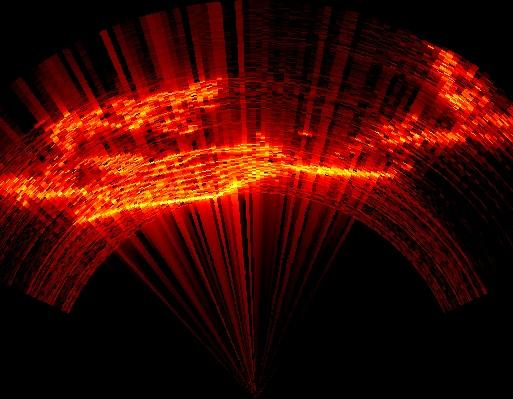shipwreck: (0, 114, 512, 221), (80, 85, 220, 132), (435, 49, 483, 110)
